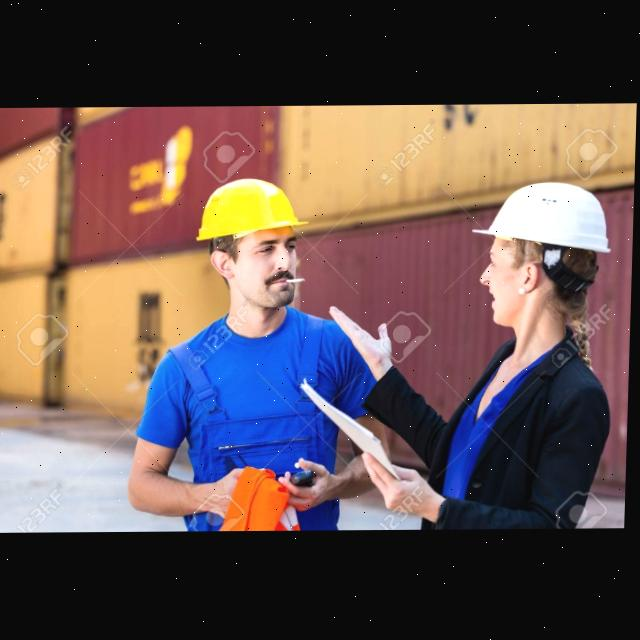cigarette: (287, 278, 307, 282)
